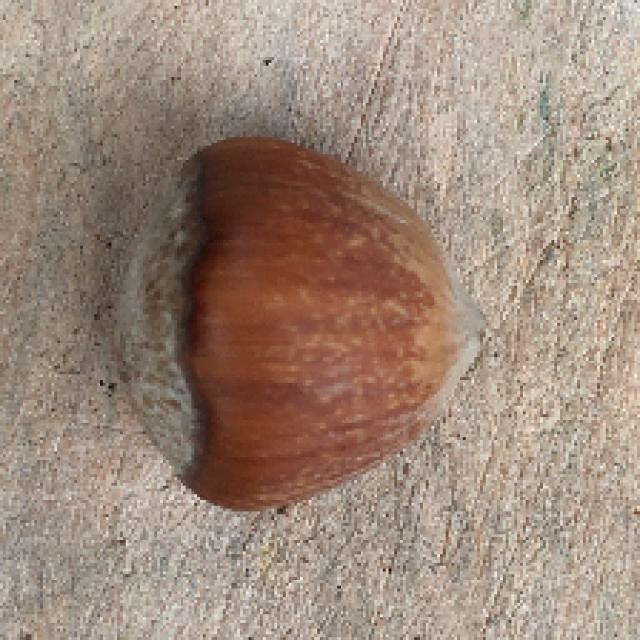QualityHazelnut: (116, 129, 494, 518)
